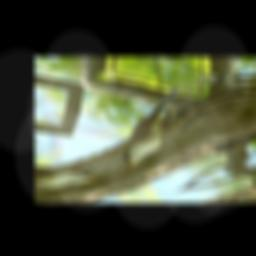Cuckoo: (79, 86, 231, 170)
